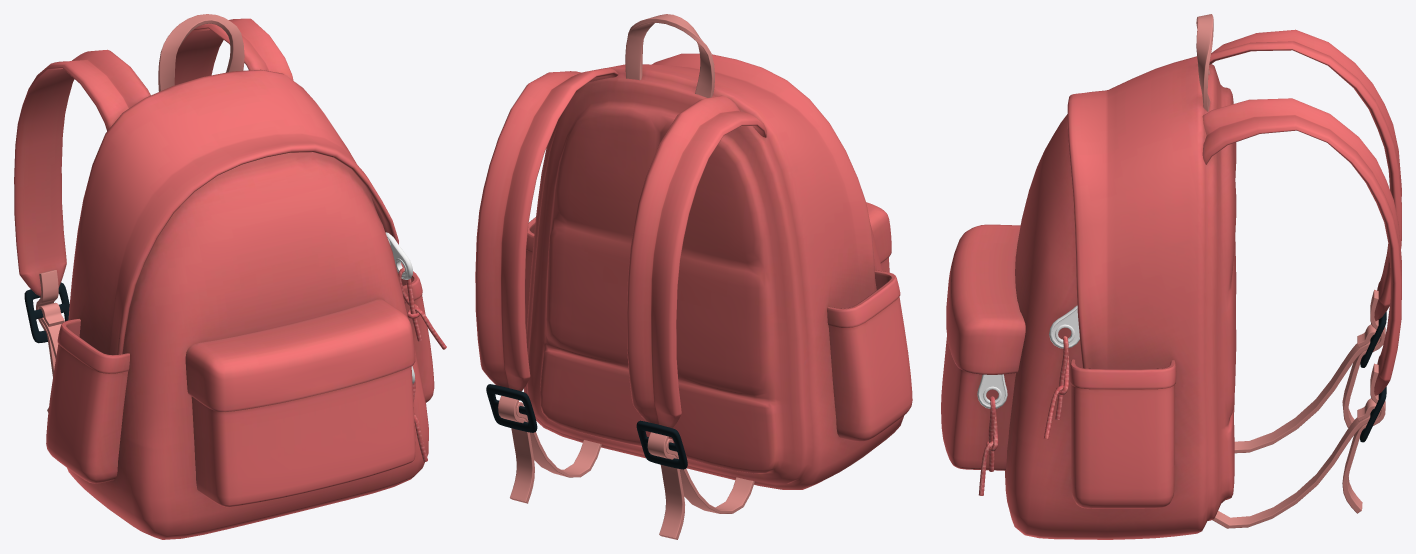
The model's file is product-backpack-001.glb.
The picture shows the model from 3 angles, left to right: view 1: azimuth 30°, elevation 25°; view 2: azimuth 150°, elevation 25°; view 3: azimuth 270°, elevation 25°; orthographic projection. The views are drawn at different scales.
Parts seen in each view (by area): view 1: Backpack; view 2: Backpack; view 3: Backpack.
Boxes of the visible parts, x1,y1,x2,y2 form: Backpack: (14, 14, 446, 539); Backpack: (475, 14, 912, 539); Backpack: (941, 14, 1401, 539).
Size of the model in its own units: 0.9294 by 1.12 by 0.9977.
1 material, 1 textured.
